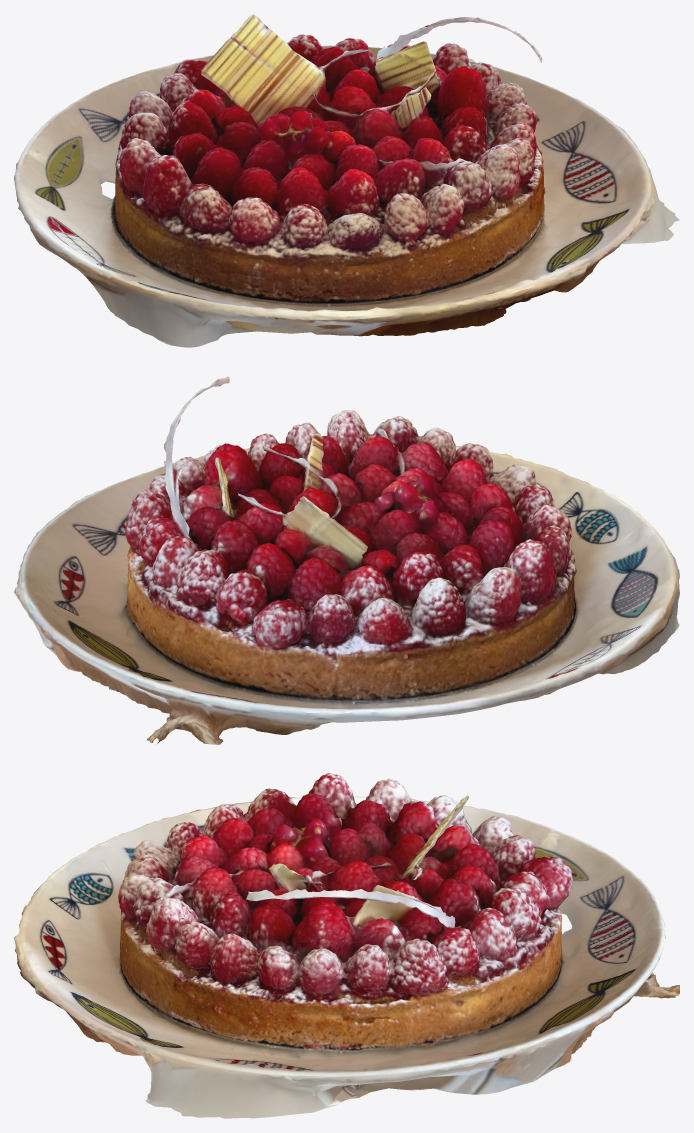
Rendered from raspberries_tart.glb.
3 renders of one model, top to bottom at view 1: azimuth 30°, elevation 25°; view 2: azimuth 150°, elevation 25°; view 3: azimuth 270°, elevation 25°, orthographic. The views are drawn at different scales.
Visible parts, largest first — view 1: Object_4; view 2: Object_4; view 3: Object_4.
Boxes of the visible parts, bbox=[...] form: Object_4: bbox=[14, 14, 679, 347]; Object_4: bbox=[14, 376, 679, 744]; Object_4: bbox=[14, 773, 679, 1118].
Size of the model in its own units: 0.2751 by 0.0823 by 0.2793.
1 material, 1 textured.
